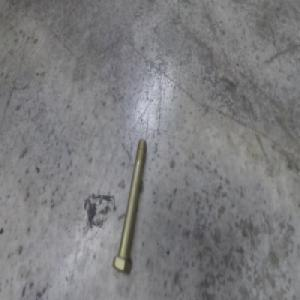Bolt: (112, 136, 147, 274)
